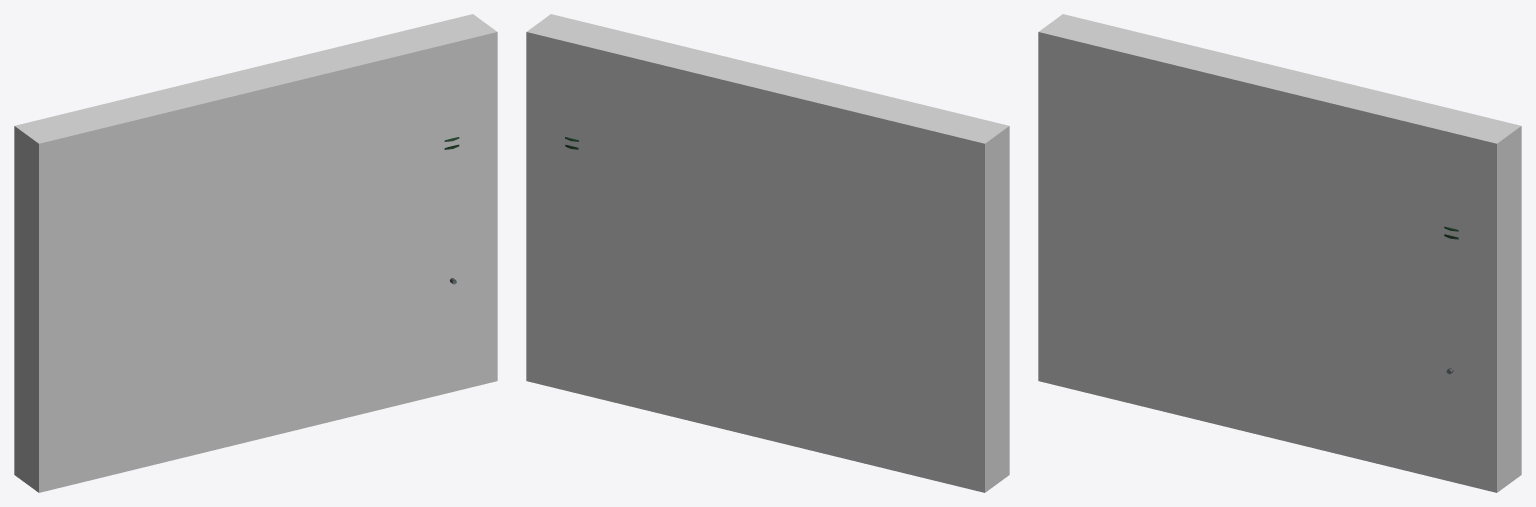
File: dragon_gate.FBX
The picture shows the model from 3 angles, left to right: view 1: azimuth 30°, elevation 25°; view 2: azimuth 150°, elevation 25°; view 3: azimuth 330°, elevation 25°; orthographic projection.
Parts seen in each view (by area): view 1: bounds; view 2: bounds; view 3: bounds.
Part boxes in pixels (bbox=[...]): bounds: bbox=[14, 14, 497, 492]; bounds: bbox=[526, 14, 1009, 492]; bounds: bbox=[1038, 14, 1521, 492].
Bounding box in the file's own units: 284 × 207 × 30.29.
